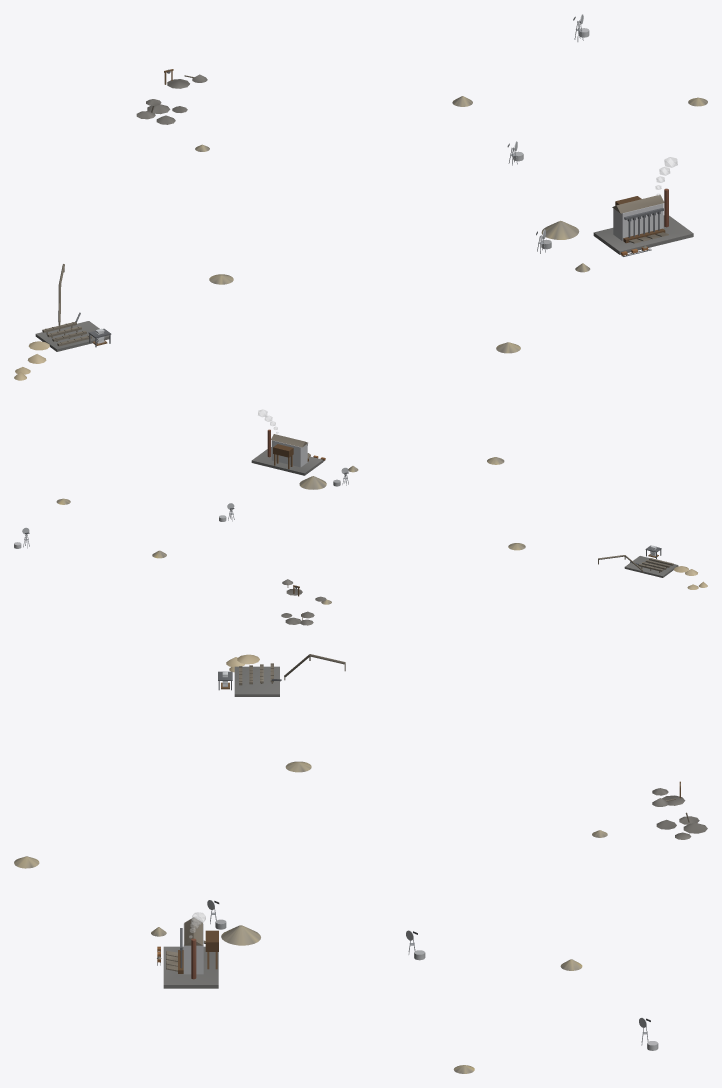
File: Theme_P3.fbx
The picture shows the model from 3 angles, top to bottom: view 1: azimuth 30°, elevation 25°; view 2: azimuth 150°, elevation 25°; view 3: azimuth 270°, elevation 25°; orthographic projection. The views are drawn at different scales.
Visible parts, largest first — view 1: Theme.StampMill, Theme.Sluices, Theme.Diggings; view 2: Theme.StampMill, Theme.Sluices, Theme.Diggings; view 3: Theme.StampMill, Theme.Sluices, Theme.Diggings.
Boxes of the visible parts, x1,y1,x2,y2 form: Theme.StampMill: (593, 188, 693, 254); Theme.Sluices: (35, 312, 109, 351); Theme.Diggings: (136, 69, 207, 124); Theme.StampMill: (251, 429, 323, 475); Theme.Sluices: (624, 556, 678, 577); Theme.Diggings: (281, 579, 326, 625); Theme.StampMill: (163, 917, 218, 988); Theme.Sluices: (234, 663, 281, 696); Theme.Diggings: (652, 781, 707, 839).
Bounding box in the file's own units: 38903 × 3691 × 27651.
